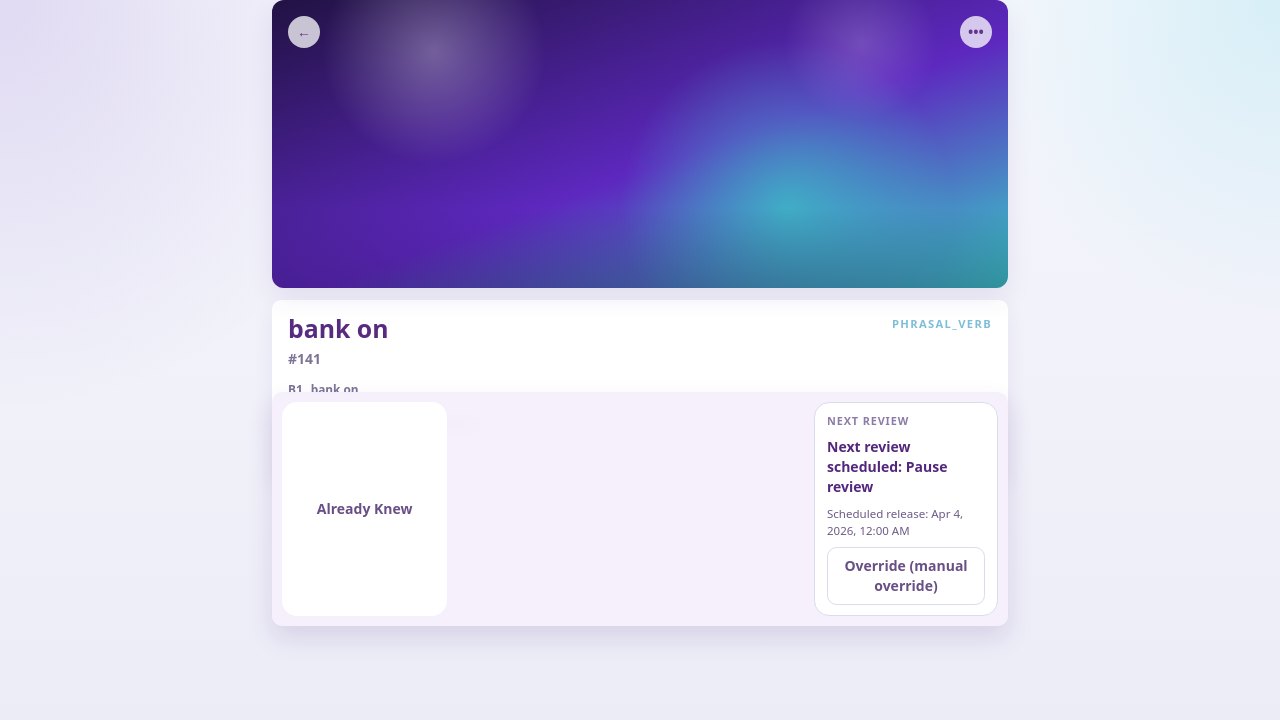
Scenario: KnowledgeEntryDetailPage › does not update the queued next review when the manual override sheet is dismissed
Expected: the text "Next review scheduled: Pause review" is shown, [827, 437, 947, 496]
Step 1. Click the button "Override (manual override)" → (906, 576), box [827, 547, 985, 605]
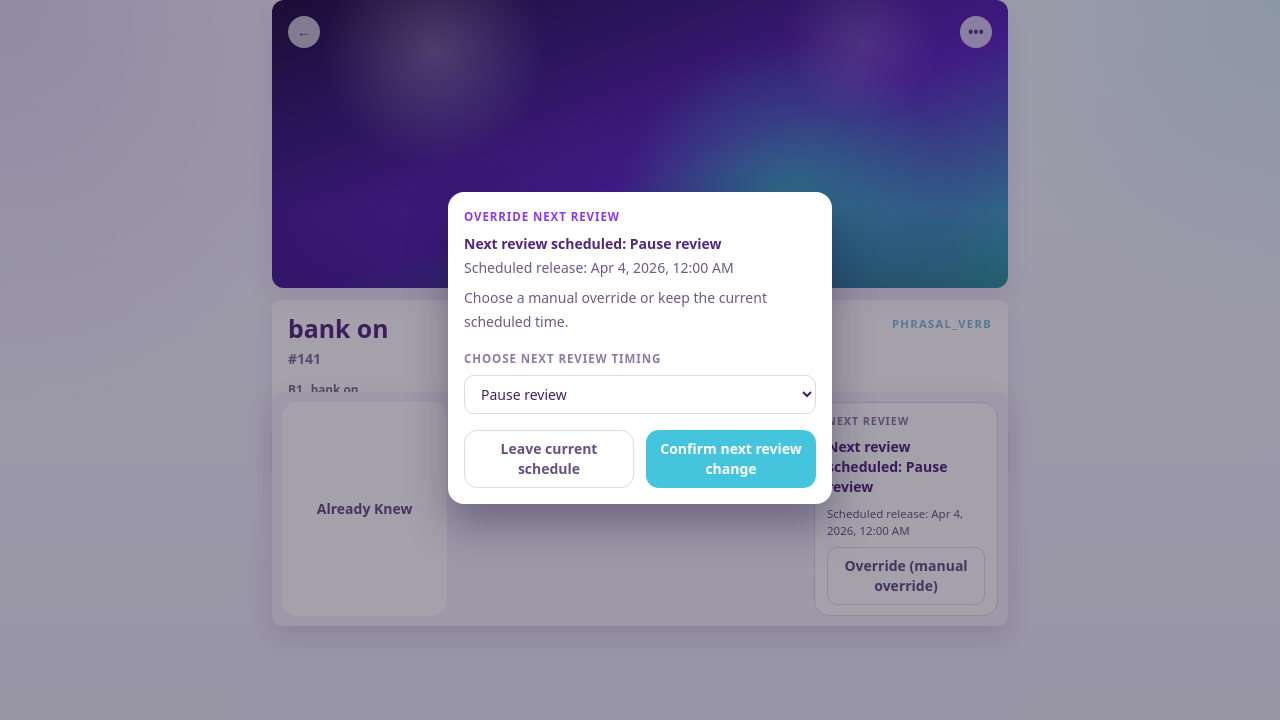
Expected: the dropdown labelled "Choose next review timing" shows "Pause review"
Step 2. Select "Tomorrow" in the dropdown labelled "Choose next review timing" → (640, 394), box [464, 375, 816, 414]
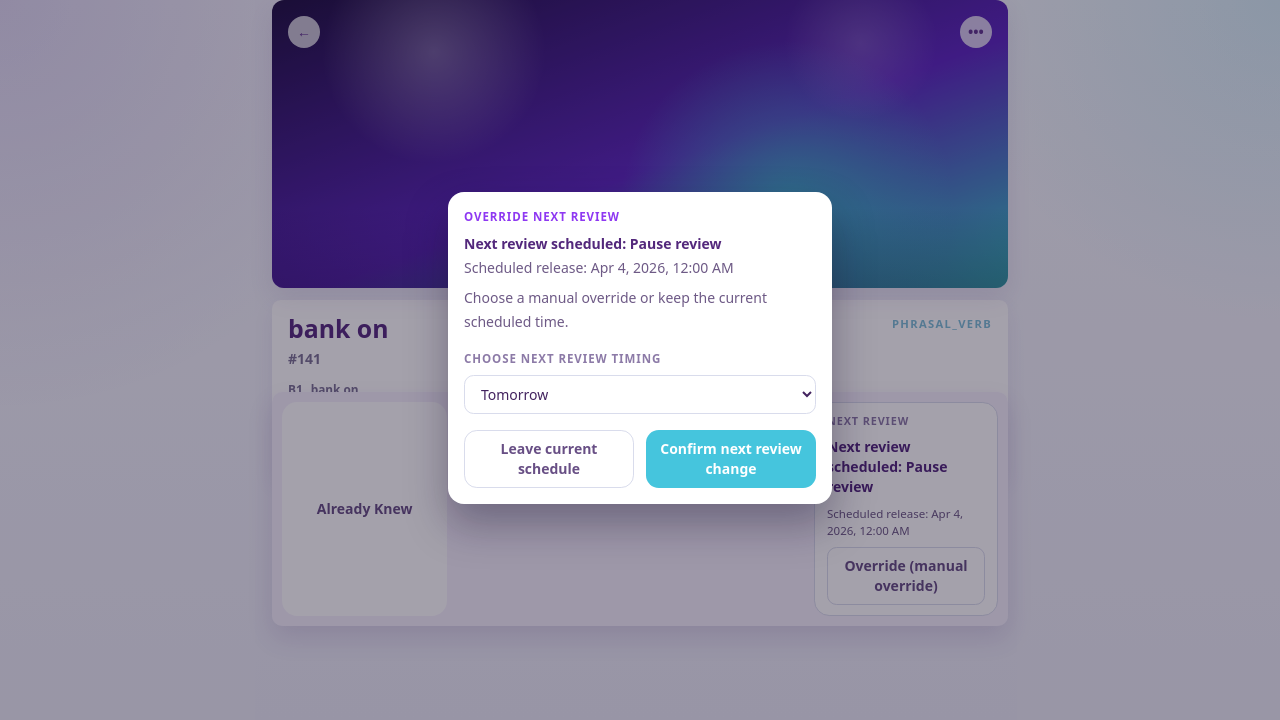
Step 3. Click the button "Leave current schedule" → (549, 459), box [464, 430, 634, 488]
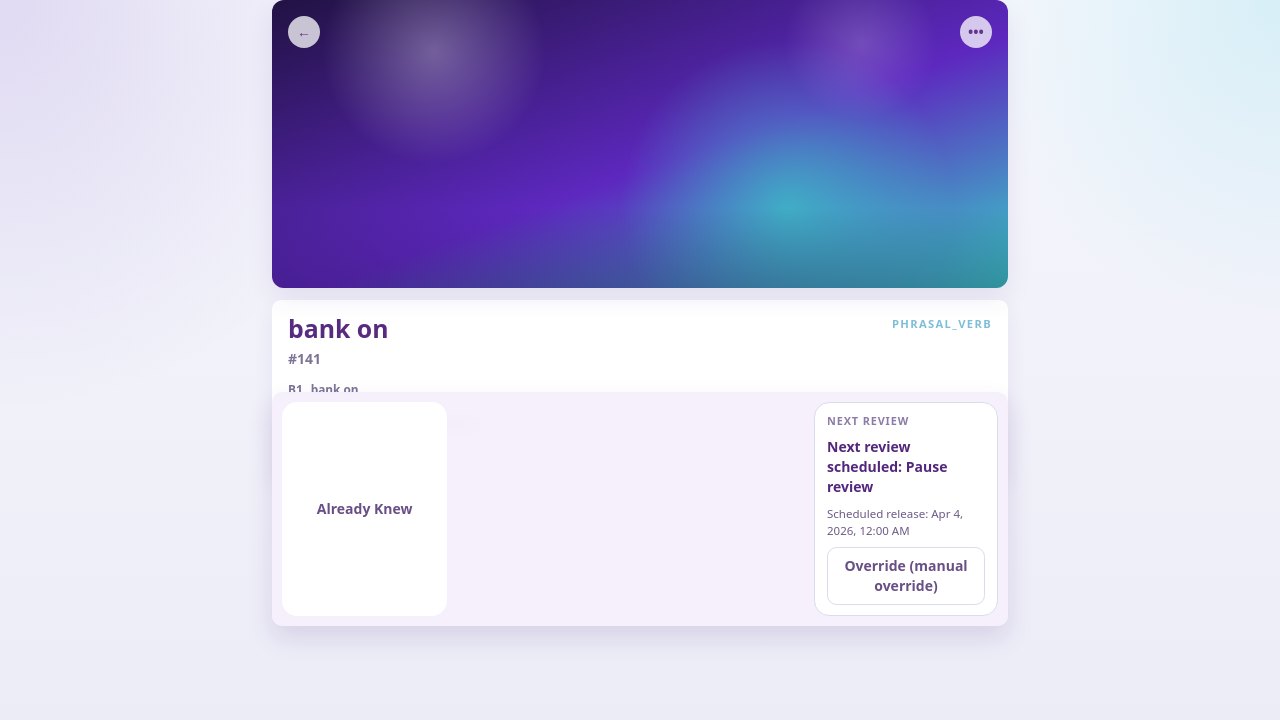
Expected: the text "Next review scheduled: Pause review" is shown, [827, 437, 947, 496]
Expected: the label labelled "Choose next review timing" is gone
